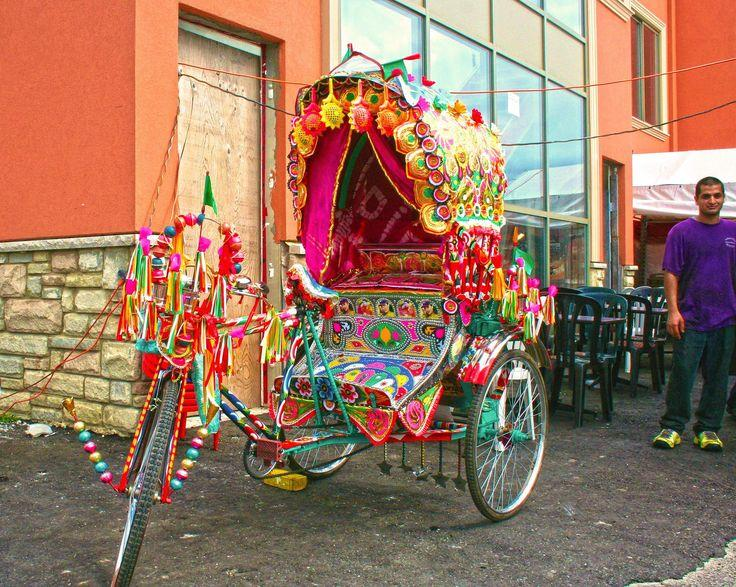Rickshaw: (113, 53, 553, 584)
